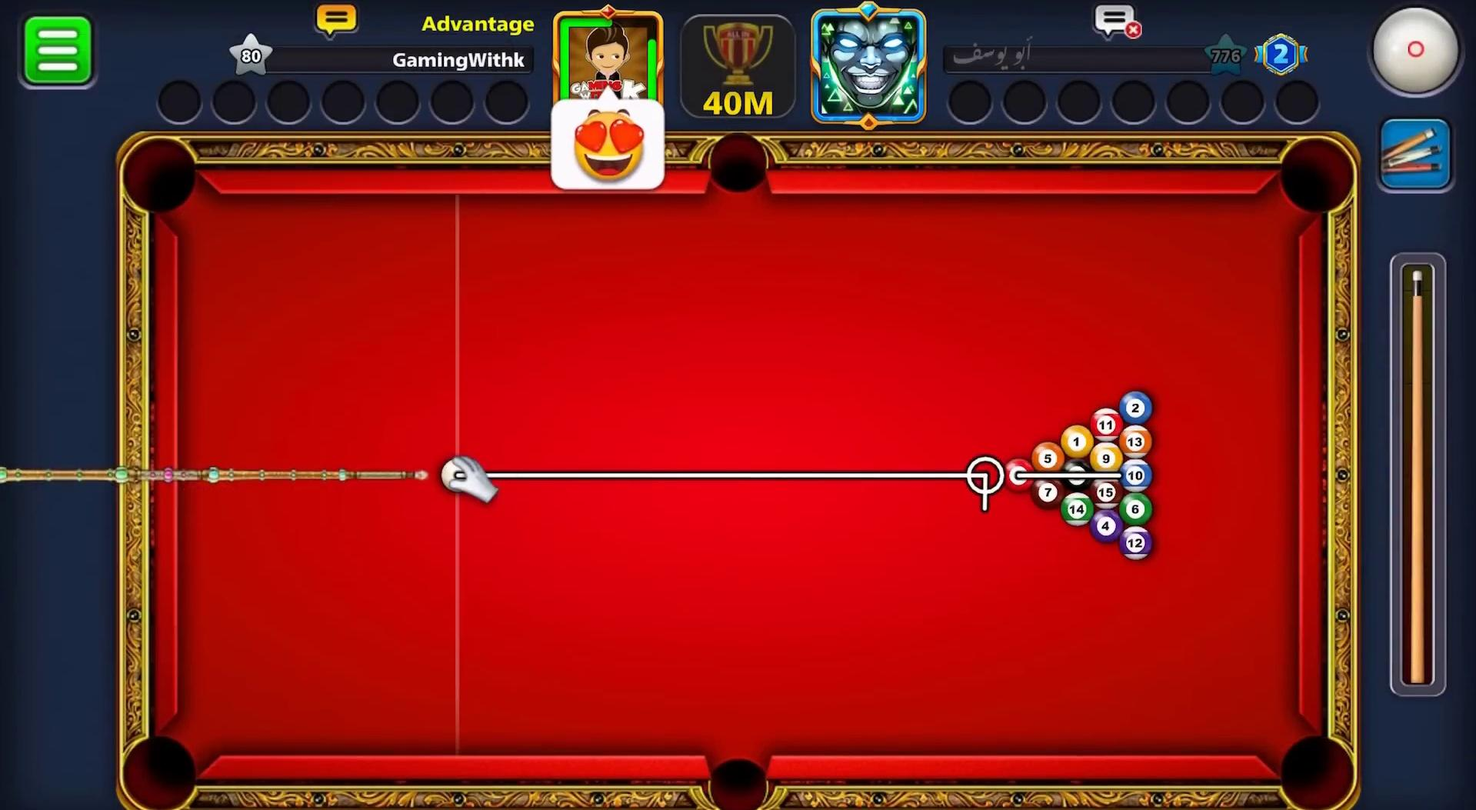Ball: (1059, 424, 1093, 461), (1119, 526, 1153, 562), (1119, 390, 1154, 424), (1005, 454, 1035, 493), (1091, 407, 1123, 443), (1120, 493, 1154, 526), (1030, 478, 1066, 509), (1063, 492, 1093, 529), (1090, 510, 1123, 543), (1121, 460, 1153, 494), (1121, 425, 1152, 459), (1092, 477, 1123, 510), (1090, 443, 1123, 473), (1032, 442, 1064, 471), (1063, 460, 1092, 492)
Force: (1388, 253, 1446, 699)
Guideline: (482, 468, 991, 516), (969, 455, 1004, 497), (1015, 472, 1121, 481)
Hole: (1261, 722, 1357, 810), (121, 132, 197, 213), (1277, 138, 1352, 215), (120, 736, 198, 810), (704, 756, 771, 810), (708, 133, 768, 193)
Play_Area: (179, 195, 1299, 754)
Spin: (1373, 5, 1461, 98)
White: (438, 454, 481, 492)
